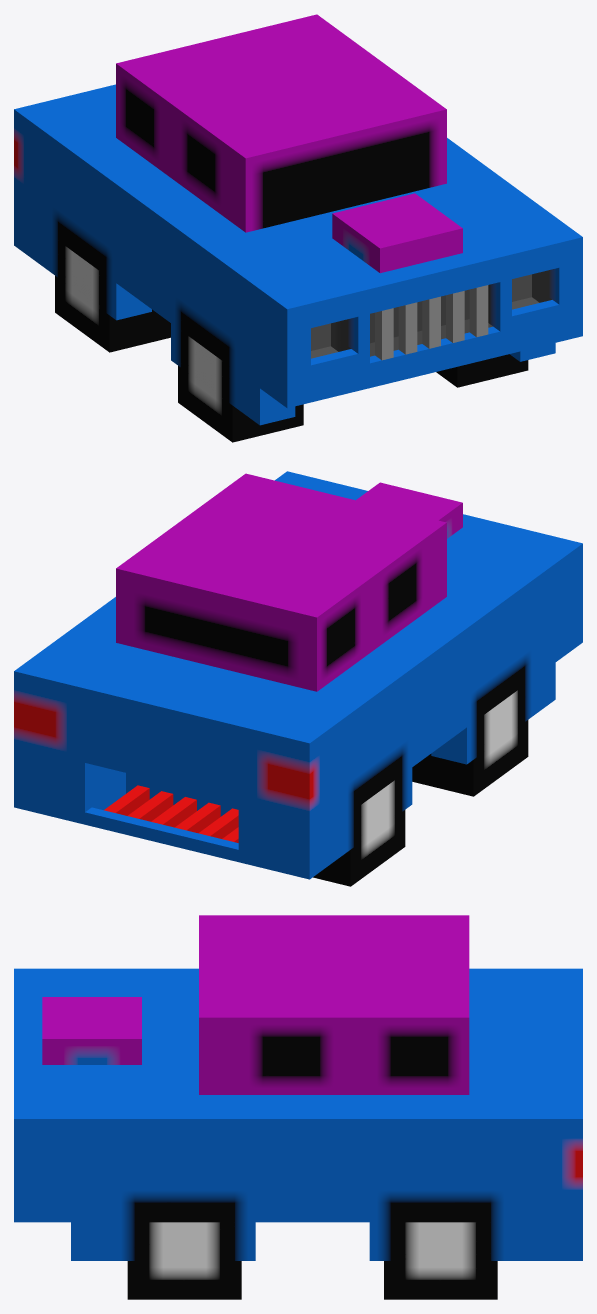
The model's file is Car_2.fbx.
3 views of the same model, one above another, from view 1: azimuth 30°, elevation 25°; view 2: azimuth 150°, elevation 25°; view 3: azimuth 270°, elevation 25° (orthographic). The views are drawn at different scales.
Parts seen in each view (by area): view 1: Car_2; view 2: Car_2; view 3: Car_2.
Boxes of the visible parts, box(x1,y1,x2,y2) form: Car_2: box(14, 14, 582, 442); Car_2: box(14, 471, 582, 886); Car_2: box(14, 915, 582, 1299).
Size of the model in its own units: 25 by 20 by 40.
Materials: 1 (1 with a texture image).
